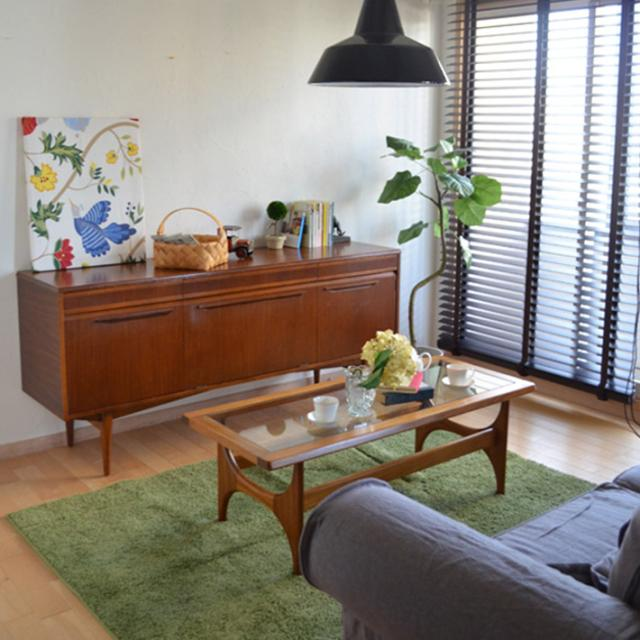vintage desk: (181, 348, 536, 523)
vintage shelf: (10, 222, 406, 376)
